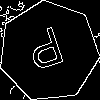P: (23, 26, 70, 80)
